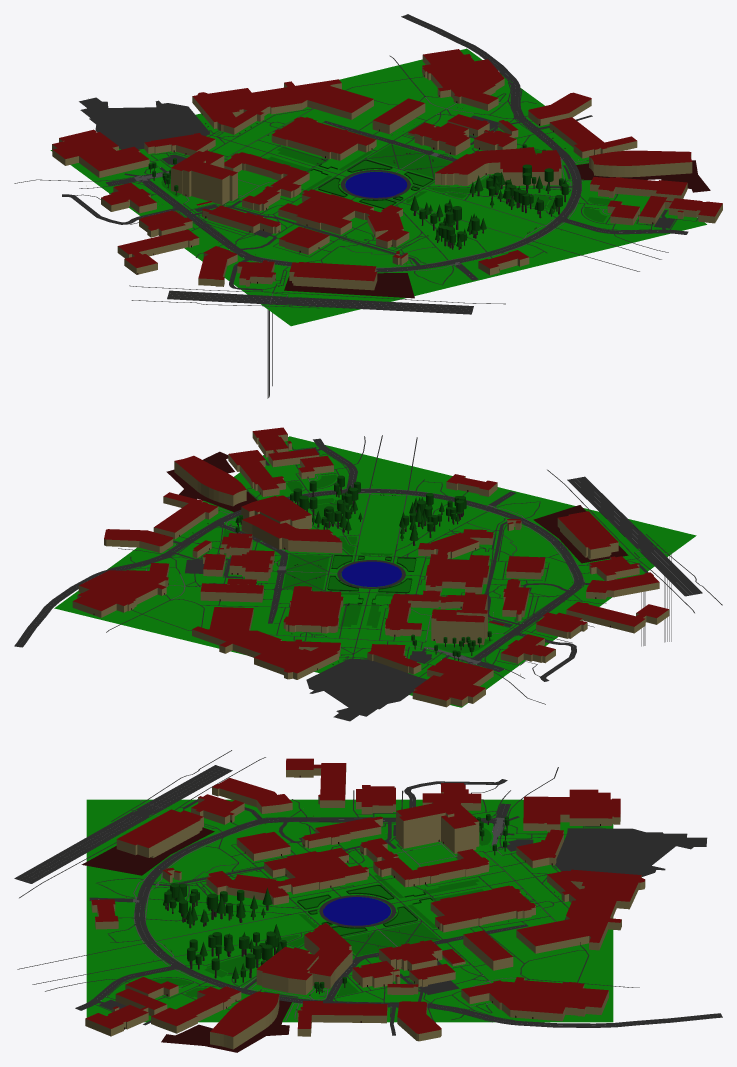
File: map_fountain.obj
The picture shows the model from 3 angles, top to bottom: view 1: azimuth 30°, elevation 25°; view 2: azimuth 150°, elevation 25°; view 3: azimuth 270°, elevation 25°; orthographic projection. The views are drawn at different scales.
Visible parts, largest first — view 1: SurfaceArea@0, RoadArea@7779519, Building@222822705, Building@2955450, Building@26447608, Road@385059385, Building@222825538, Building@522348661, Building@222825537, Building@522343055, Forest@3636295, Building@222831554 (+32 smaller); view 2: SurfaceArea@0, RoadArea@7779519, Building@222822705, Building@2955450, Building@26447608, Road@385059385, Building@30859396, Building@222825538, Building@222825537, Building@522348661, Building@522343055, Forest@3636295 (+34 smaller); view 3: SurfaceArea@0, RoadArea@7779519, Building@222822705, Building@2955450, Building@26447608, Building@222825538, Road@385059385, Building@222825537, Building@222831554, Building@522343055, Building@522348661, Building@30922712 (+35 smaller).
Boxes of the visible parts, bbox=[...] form: SurfaceArea@0: bbox=[50, 48, 706, 326]; RoadArea@7779519: bbox=[79, 97, 209, 149]; Building@222822705: bbox=[422, 49, 504, 110]; Building@2955450: bbox=[192, 87, 300, 134]; Building@26447608: bbox=[52, 129, 149, 177]; Road@385059385: bbox=[167, 290, 473, 314]; Building@222825538: bbox=[271, 117, 376, 160]; Building@522348661: bbox=[589, 150, 692, 177]; Building@222825537: bbox=[278, 189, 373, 234]; Building@522343055: bbox=[289, 262, 377, 290]; Forest@3636295: bbox=[469, 164, 568, 218]; Building@222831554: bbox=[284, 79, 373, 119]; SurfaceArea@0: bbox=[54, 436, 696, 707]; RoadArea@7779519: bbox=[306, 658, 426, 721]; Building@222822705: bbox=[72, 563, 169, 617]; Building@2955450: bbox=[233, 631, 340, 679]; Building@26447608: bbox=[412, 658, 493, 707]; Road@385059385: bbox=[567, 476, 702, 596]; Building@30859396: bbox=[241, 514, 342, 553]; Building@222825538: bbox=[283, 586, 343, 633]; Building@222825537: bbox=[425, 554, 489, 593]; Building@522348661: bbox=[174, 455, 246, 506]; Building@522343055: bbox=[557, 511, 618, 559]; Forest@3636295: bbox=[290, 475, 362, 534]; SurfaceArea@0: bbox=[86, 799, 613, 1022]; RoadArea@7779519: bbox=[555, 828, 707, 876]; Building@222822705: bbox=[461, 977, 608, 1021]; Building@2955450: bbox=[547, 869, 645, 918]; Building@26447608: bbox=[523, 789, 620, 831]; Building@222825538: bbox=[430, 885, 535, 932]; Road@385059385: bbox=[14, 765, 232, 883]; Building@222825537: bbox=[264, 848, 368, 894]; Building@222831554: bbox=[516, 914, 621, 953]; Building@522343055: bbox=[116, 809, 203, 857]; Building@522348661: bbox=[210, 991, 279, 1049]; Building@30922712: bbox=[373, 849, 489, 887].
Bounding box in the file's own units: 653 × 128 × 646.
